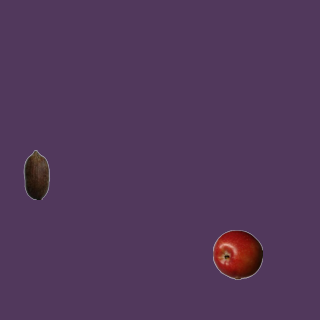Apple Braeburn: (212, 229, 262, 279)
Nut Pecan: (11, 149, 61, 199)
